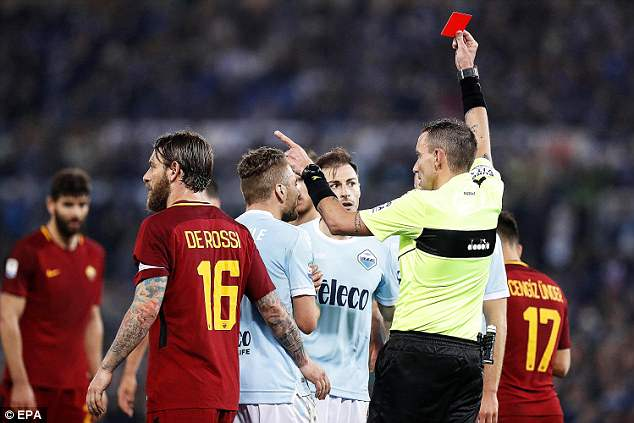red_card: (429, 5, 485, 70)
